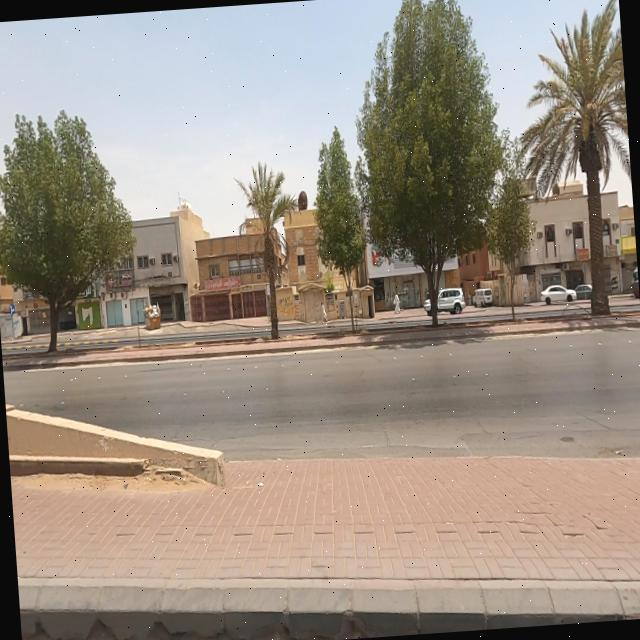Graffiti: (276, 294, 294, 316), (294, 302, 299, 318)
